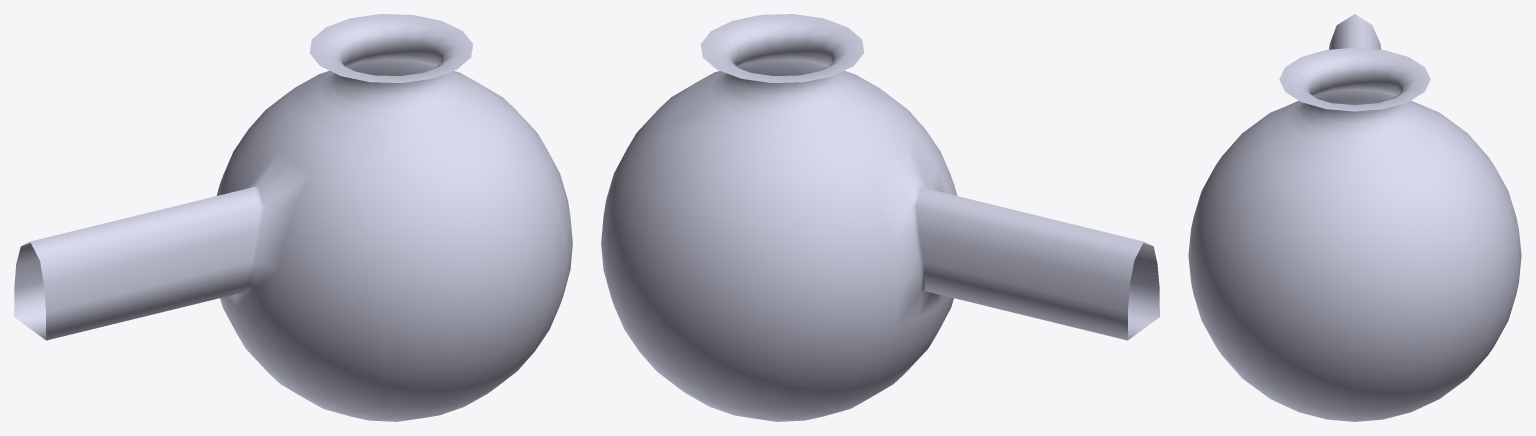
Rendered from Puzzle_01.fbx.
3 views of the same model, side by side, from view 1: azimuth 30°, elevation 25°; view 2: azimuth 150°, elevation 25°; view 3: azimuth 270°, elevation 25° (orthographic). The views are drawn at different scales.
Visible parts, largest first — view 1: Puzzle_01; view 2: Puzzle_01; view 3: Puzzle_01.
Part boxes in pixels (<box>): Puzzle_01: <box>14,14,572,421</box>; Puzzle_01: <box>601,14,1159,421</box>; Puzzle_01: <box>1188,14,1521,421</box>.
Size of the model in its own units: 2073 by 1362 by 1257.
